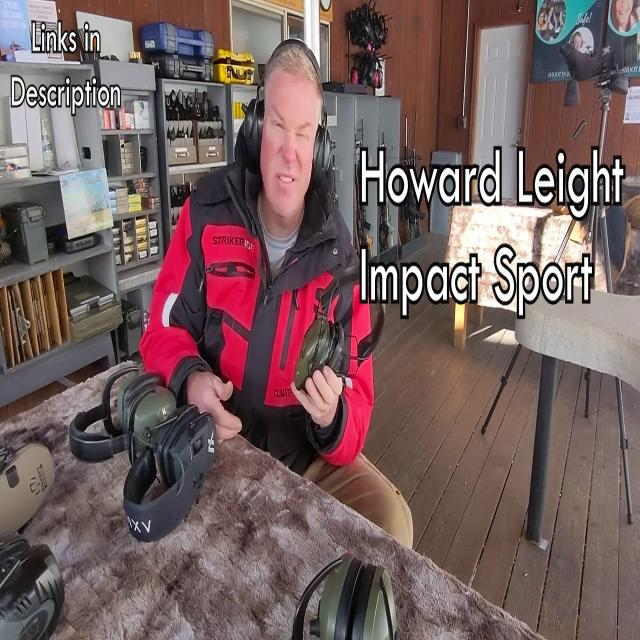earmuff: (293, 313, 331, 399), (310, 118, 340, 187), (240, 92, 264, 159), (331, 322, 350, 380)
